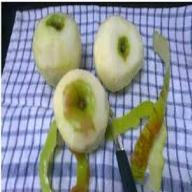apple: (50, 72, 109, 154), (91, 19, 151, 90), (32, 17, 80, 82)
